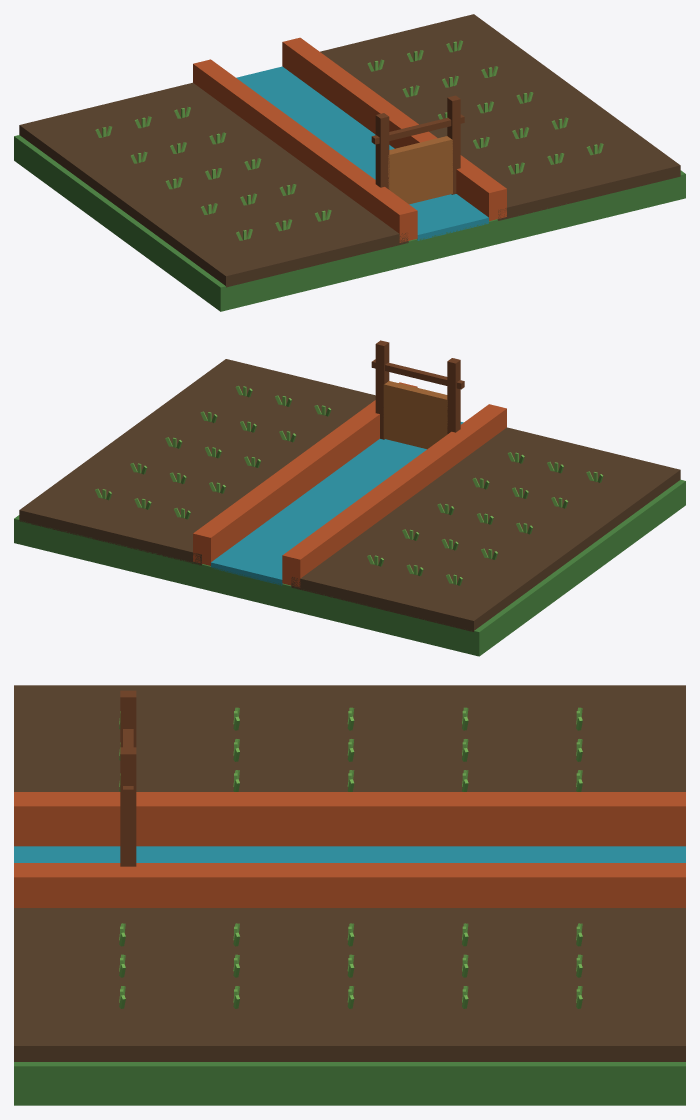
File: rice_field_irrigation.glb
The picture shows the model from 3 angles, top to bottom: view 1: azimuth 30°, elevation 25°; view 2: azimuth 150°, elevation 25°; view 3: azimuth 270°, elevation 25°; orthographic projection. The views are drawn at different scales.
Parts seen in each view (by area): view 1: FieldLeft, FieldRight, TerrainBase, ChannelBank, IrrigationWater, ChannelBank.001, IrrigationGate, SluicePost, SluicePost.001, GateHandle; view 2: FieldLeft, FieldRight, TerrainBase, IrrigationWater, ChannelBank, ChannelBank.001, IrrigationGate, SluicePost, SluicePost.001, GateHandle; view 3: FieldRight, FieldLeft, ChannelBank, ChannelBank.001, TerrainBase, IrrigationWater, SluicePost.001, SluicePost.
Part boxes in pixels (x1,y1,x2,y2): FieldLeft: (19,82,408,287); FieldRight: (320,14,680,220); TerrainBase: (14,135,685,311); ChannelBank: (193,59,417,242); IrrigationWater: (236,66,488,240); ChannelBank.001: (282,37,506,221); IrrigationGate: (388,136,452,204); SluicePost: (375,113,389,189); SluicePost.001: (447,95,460,194); GateHandle: (371,114,464,144); FieldLeft: (291,427,680,631); FieldRight: (19,359,375,565); TerrainBase: (14,479,685,656); IrrigationWater: (211,422,463,585); ChannelBank: (282,404,506,587); ChannelBank.001: (193,382,417,565); IrrigationGate: (383,381,447,449); SluicePost: (447,358,460,434); SluicePost.001: (375,340,389,439); GateHandle: (371,359,464,389); FieldRight: (14,908,685,1061); FieldLeft: (14,685,685,791); ChannelBank: (14,792,685,846); ChannelBank.001: (14,863,685,907); TerrainBase: (14,1062,685,1105); IrrigationWater: (14,846,685,862); SluicePost.001: (120,747,136,866); SluicePost: (120,690,136,747).
Size of the model in its own units: 13 by 3.27 by 10.
